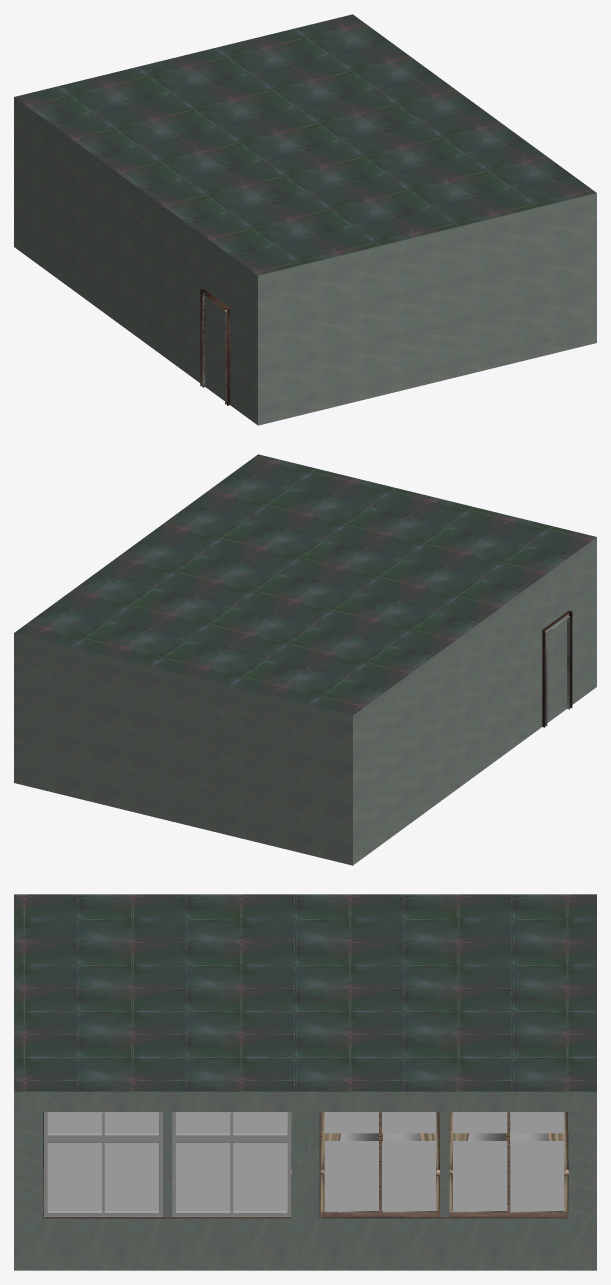
File: School.fbx
3 views of the same model, one above another, from view 1: azimuth 30°, elevation 25°; view 2: azimuth 150°, elevation 25°; view 3: azimuth 270°, elevation 25° (orthographic). The views are drawn at different scales.
Parts seen in each view (by area): view 1: wall, ceilling, Door.001|Door_L_door.blend|Dupli|; view 2: wall, ceilling, Door.001|Door_L_door.blend|Dupli|; view 3: ceilling, wall, Window.002|Glass_L_Window.blend|Dupli|2, Window.003|Glass_L_Window.blend|Dupli|2, wall.002, wall.001, polySurface21, polySurface18, Window.002|Plane_L_Window.blend|Dupli|4, Window.002|WindowWoodPlate_L_Window.blend|Dupli|3, Window.002|Wall_L_Window.blend|Dupli|, Window.003|Wall_L_Window.blend|Dupli| (+4 smaller).
Boxes of the visible parts, <box> form: wall: <box>14,97,596,425</box>; ceilling: <box>14,14,596,275</box>; Door.001|Door_L_door.blend|Dupli|: <box>200,288,230,405</box>; wall: <box>14,537,596,865</box>; ceilling: <box>14,454,596,715</box>; Door.001|Door_L_door.blend|Dupli|: <box>542,610,572,727</box>; ceilling: <box>14,894,596,1091</box>; wall: <box>14,1091,596,1270</box>; Window.002|Glass_L_Window.blend|Dupli|2: <box>324,1112,564,1210</box>; Window.003|Glass_L_Window.blend|Dupli|2: <box>47,1112,287,1210</box>; wall.002: <box>14,1112,596,1218</box>; wall.001: <box>291,1112,320,1218</box>; polySurface21: <box>172,1112,291,1216</box>; polySurface18: <box>44,1112,162,1216</box>; Window.002|Plane_L_Window.blend|Dupli|4: <box>320,1112,568,1212</box>; Window.002|WindowWoodPlate_L_Window.blend|Dupli|3: <box>321,1206,568,1218</box>; Window.002|Wall_L_Window.blend|Dupli|: <box>440,1112,449,1216</box>; Window.003|Wall_L_Window.blend|Dupli|: <box>163,1112,172,1216</box>.
Size of the model in its own units: 811 by 341 by 1003.
